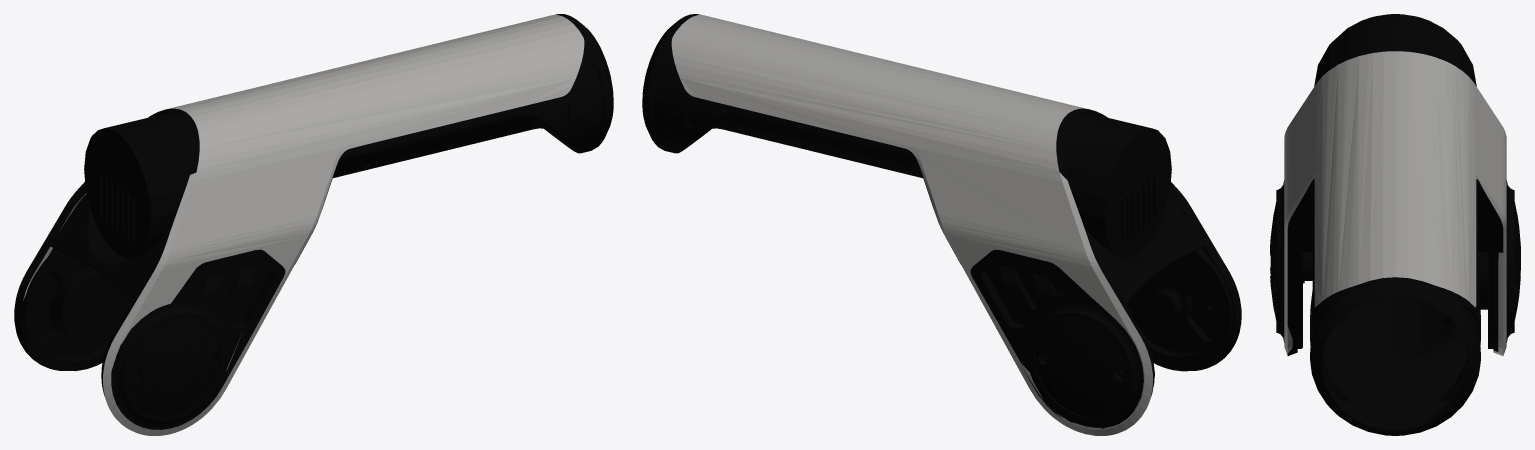
File: left_arm_link3.usd.sapien.glb
3 views of the same model, side by side, from view 1: azimuth 30°, elevation 25°; view 2: azimuth 150°, elevation 25°; view 3: azimuth 270°, elevation 25° (orthographic). The views are drawn at different scales.
Visible parts, largest first — view 1: left_arm_link3; view 2: left_arm_link3; view 3: left_arm_link3.
Boxes of the visible parts, box(x1,y1,x2,y2) form: left_arm_link3: box(14, 14, 613, 435); left_arm_link3: box(642, 14, 1241, 435); left_arm_link3: box(1270, 14, 1520, 435).
Size of the model in its own units: 0.2751 by 0.1373 by 0.0938.
Materials: 1 (1 with a texture image).
